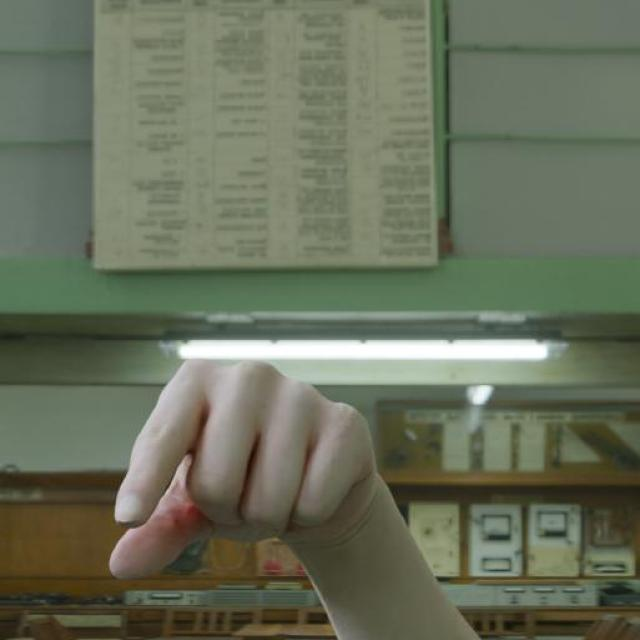Q: (103, 352, 379, 588)
